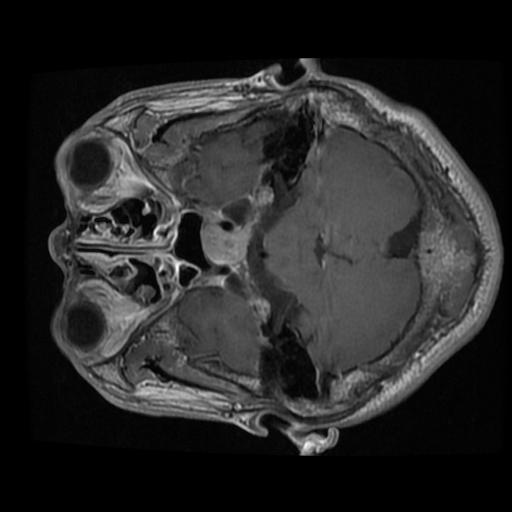pituitary tumour: (201, 224, 248, 267)
